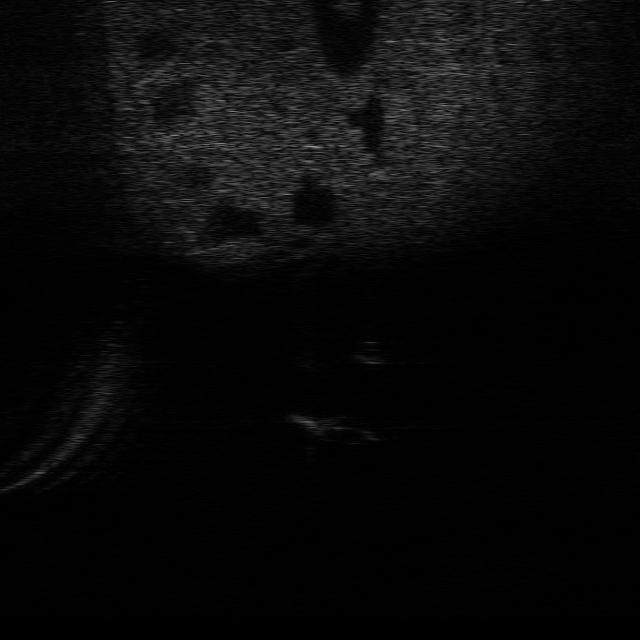ball: (346, 336, 396, 368)
square cage: (280, 406, 355, 440)
tyre: (320, 422, 384, 447)
